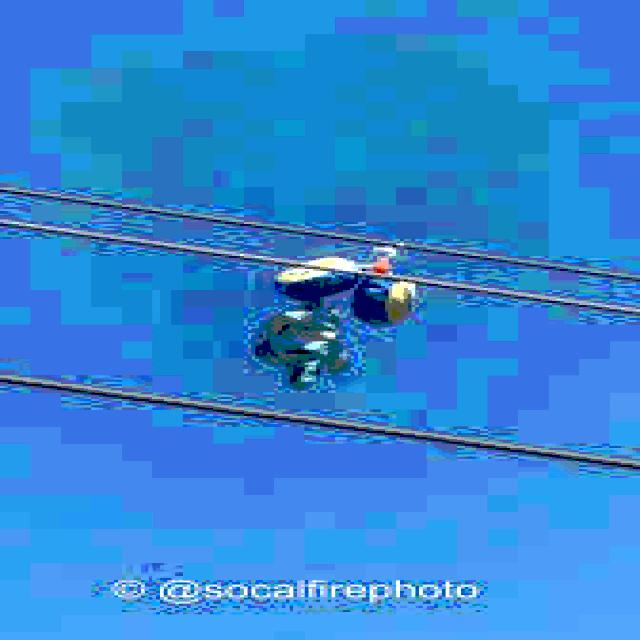obstruction: (251, 247, 415, 388)
wires: (0, 375, 636, 467), (0, 188, 636, 279), (0, 218, 316, 267), (362, 271, 636, 314)
